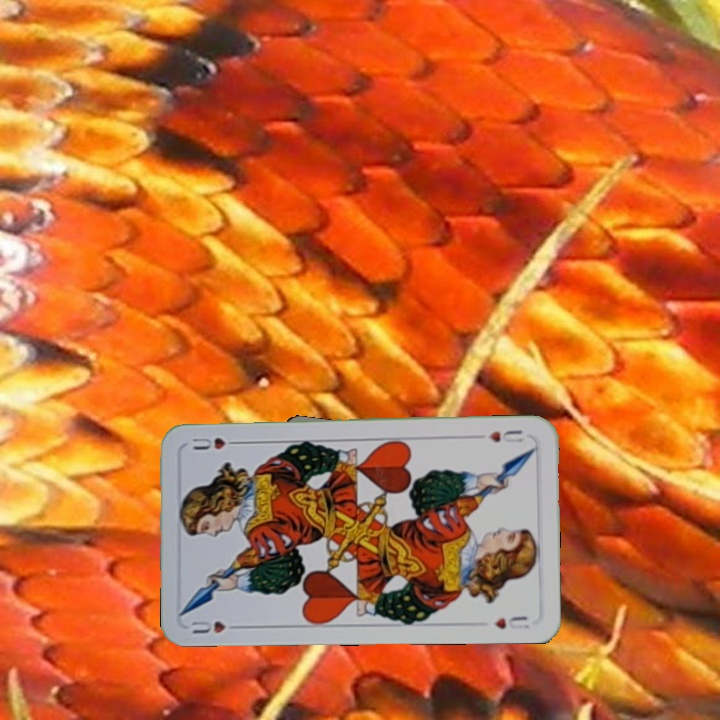HU: (186, 617, 244, 636), (485, 426, 526, 445)
